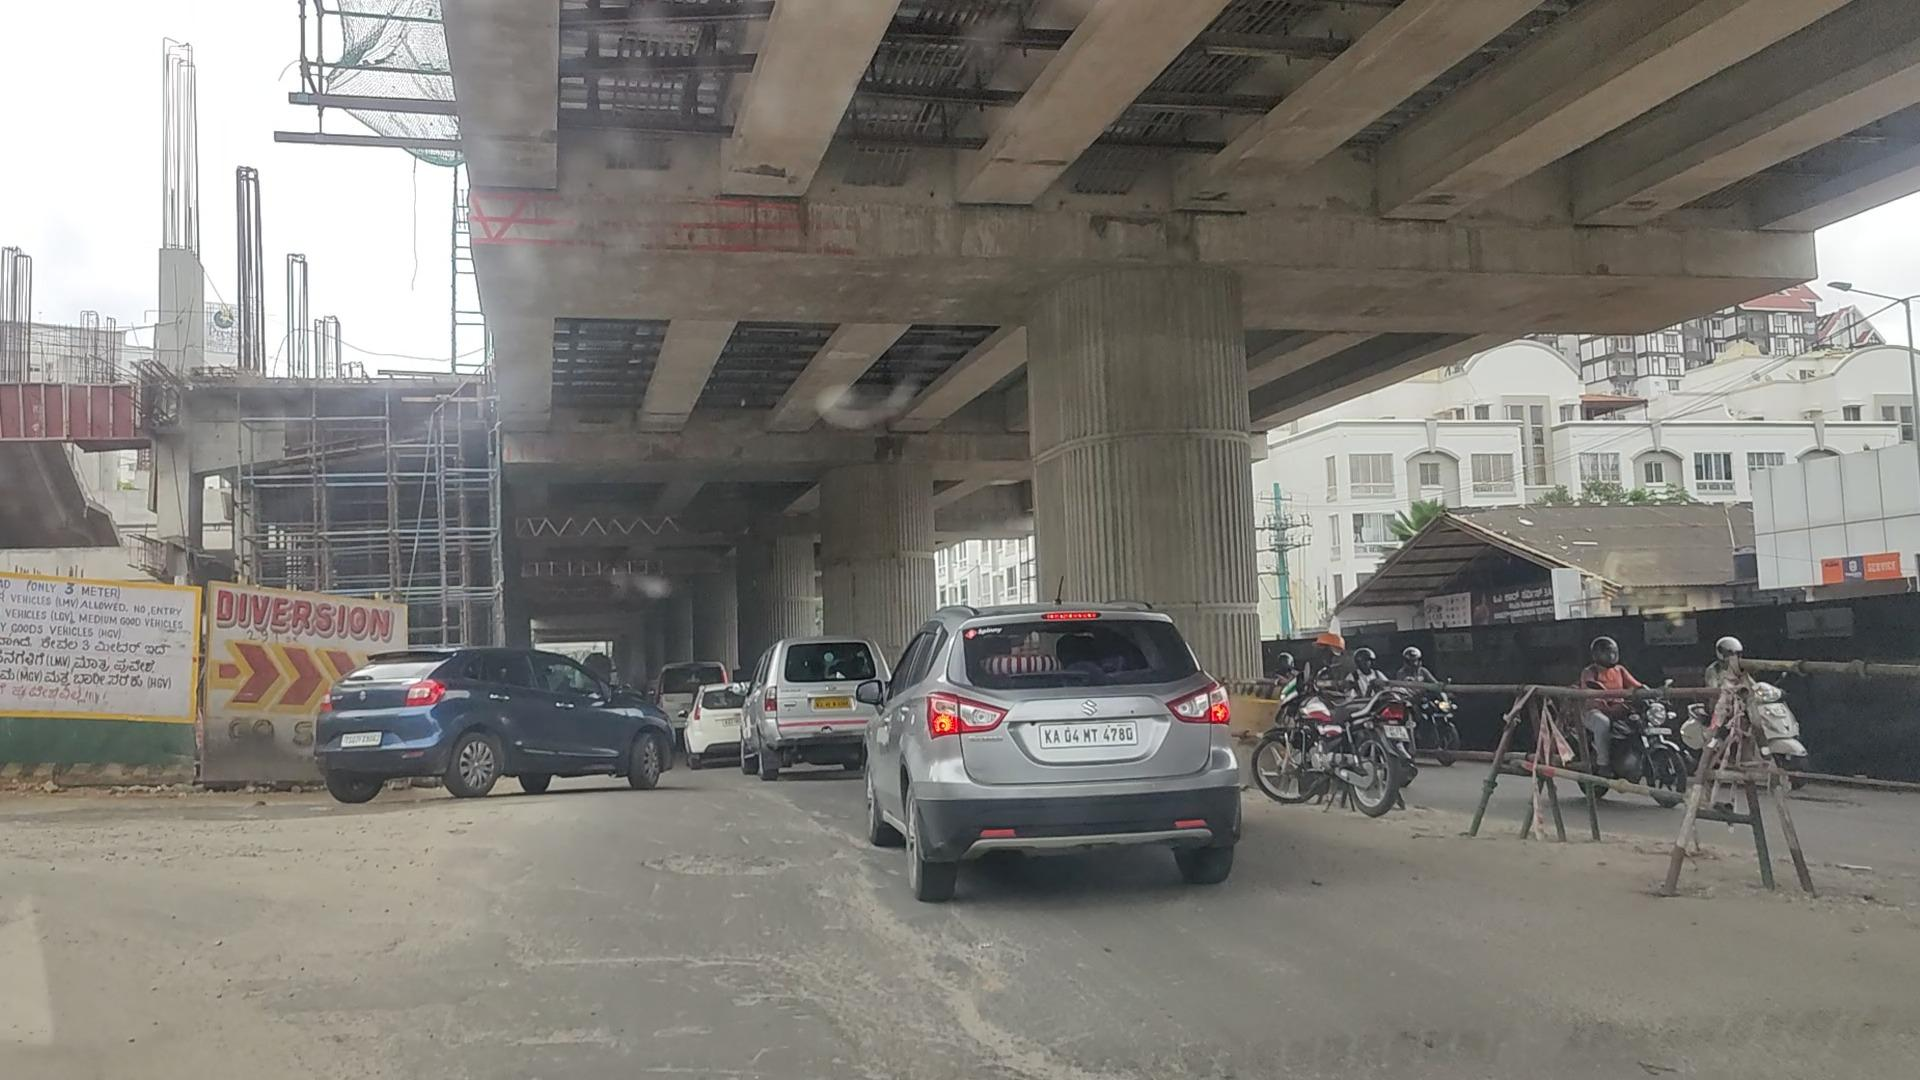LMV: (874, 603, 1236, 885), (745, 637, 873, 760)
RoadDamages: (840, 910, 1211, 1079), (501, 930, 831, 1021), (790, 779, 898, 906), (654, 843, 777, 887)
